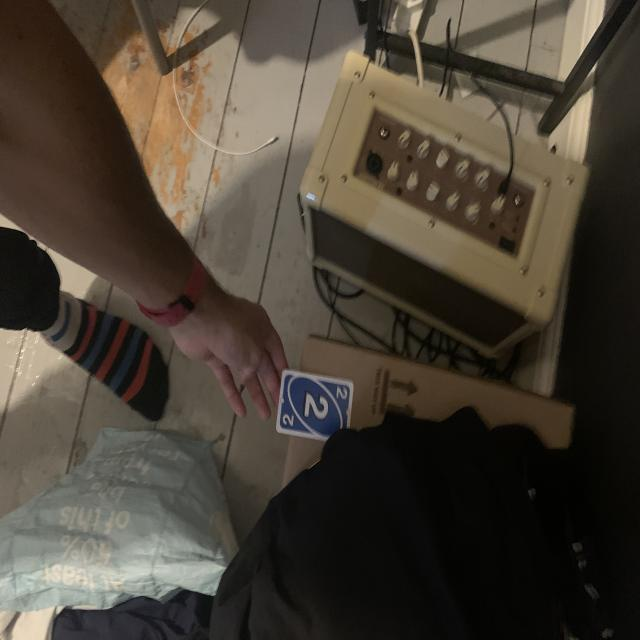lblue-2: (333, 382, 349, 403)
